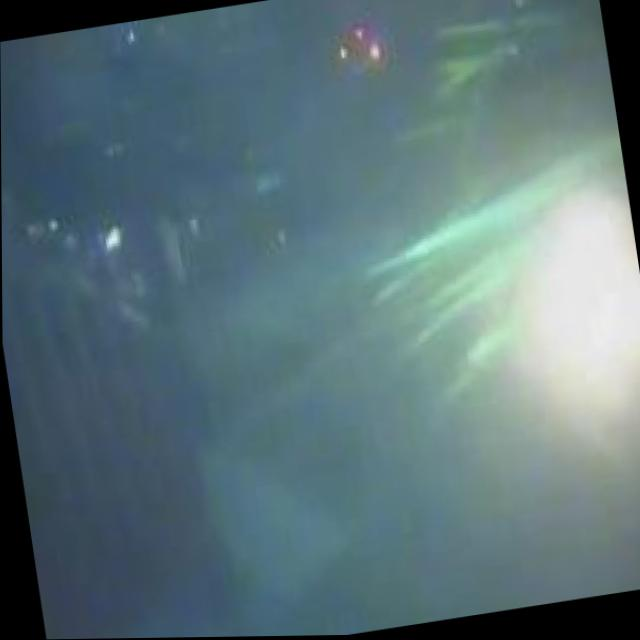fire: (490, 164, 640, 438)
